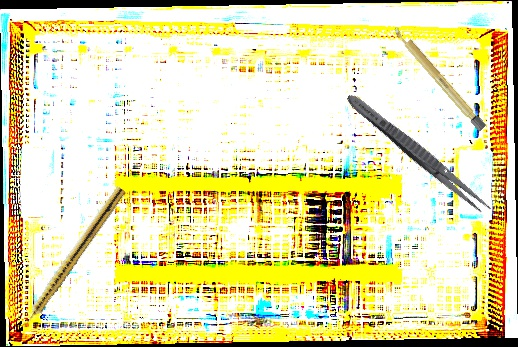Dressing Forceps: (342, 89, 496, 219)
Handpiece: (15, 183, 127, 334)
Scalpel Handle: (390, 23, 488, 133)
